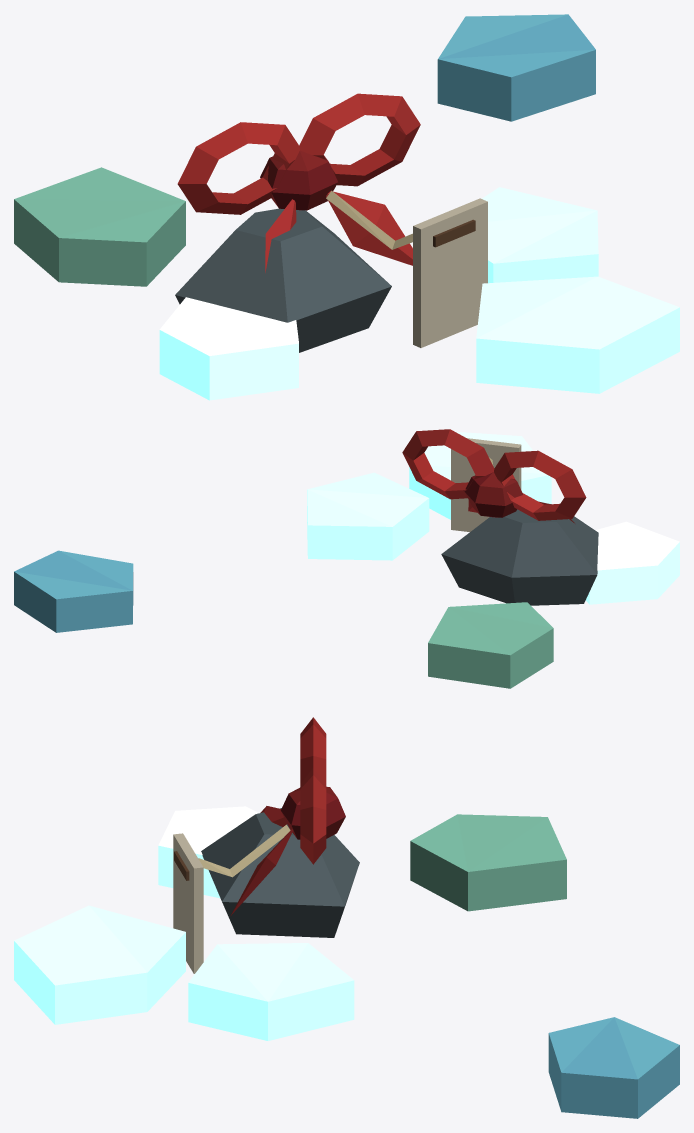
File: quest_sea_glass.glb
3 renders of one model, top to bottom at view 1: azimuth 30°, elevation 25°; view 2: azimuth 150°, elevation 25°; view 3: azimuth 270°, elevation 25°, orthographic. The views are drawn at different scales.
Visible parts, largest first — view 1: quest_sea_glass; view 2: quest_sea_glass; view 3: quest_sea_glass.
Boxes of the visible parts, <box> form: quest_sea_glass: <box>14,14,679,400</box>; quest_sea_glass: <box>14,429,679,688</box>; quest_sea_glass: <box>14,717,679,1118</box>.
Size of the model in its own units: 0.3881 by 0.1148 by 0.4.
